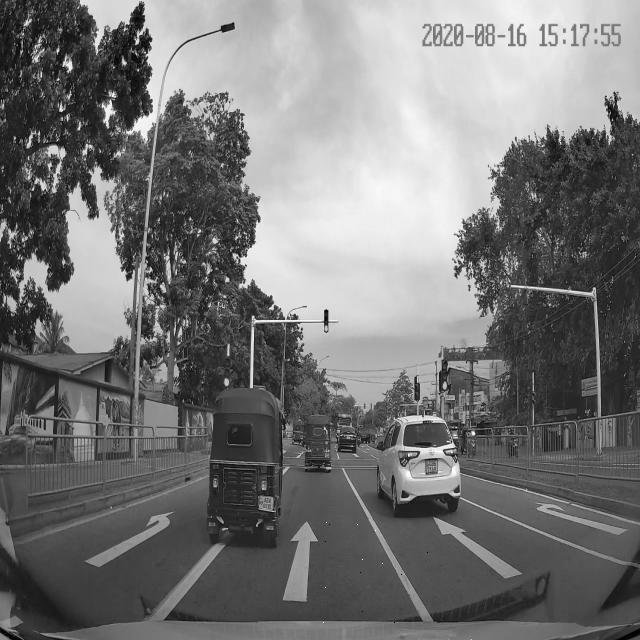forward: (259, 518, 437, 625)
